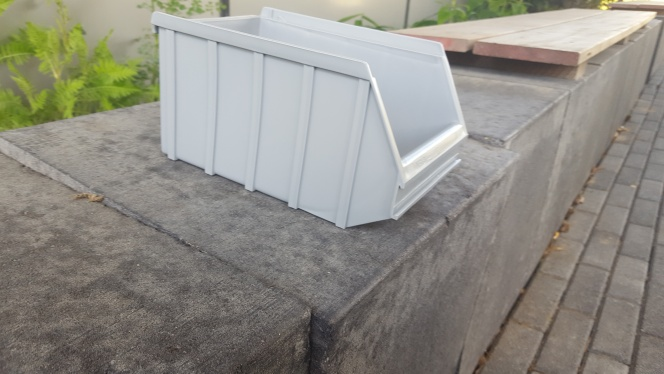tray_left: (155, 8, 398, 233)
